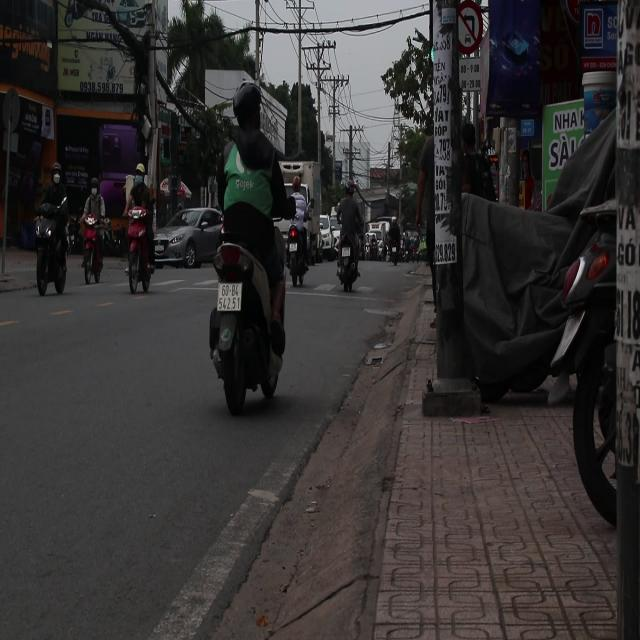car: (154, 206, 224, 269), (317, 215, 338, 251)
motorbike: (207, 240, 281, 412), (31, 199, 70, 300), (128, 201, 150, 307), (82, 211, 104, 296), (335, 234, 362, 293), (366, 222, 390, 262)
